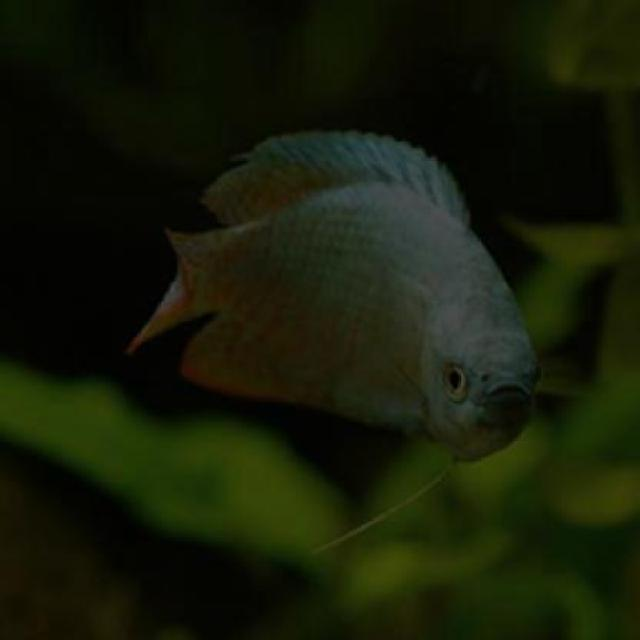Gourami: (141, 127, 542, 467)
